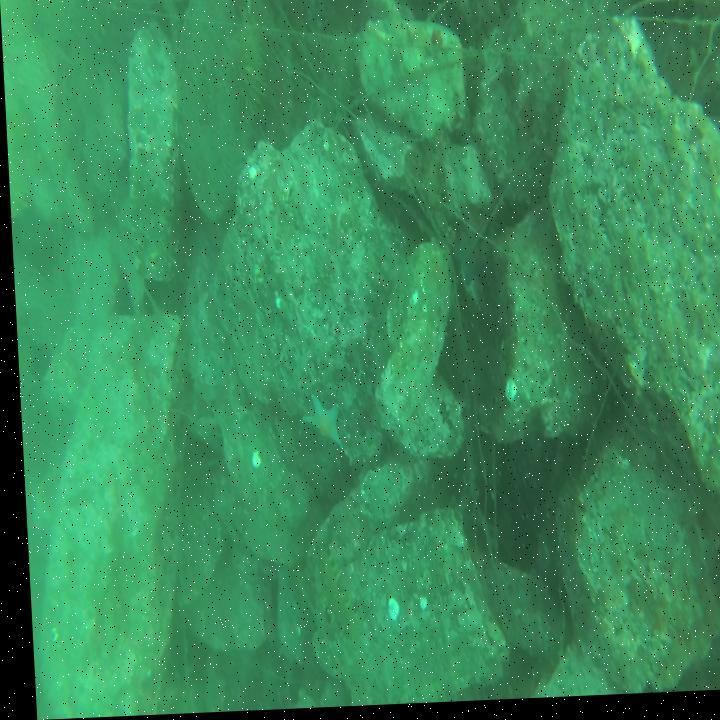echinus: (208, 24, 265, 132), (312, 26, 356, 136)
holothurian: (303, 548, 354, 654)
starfish: (444, 217, 484, 309), (293, 393, 343, 458)
